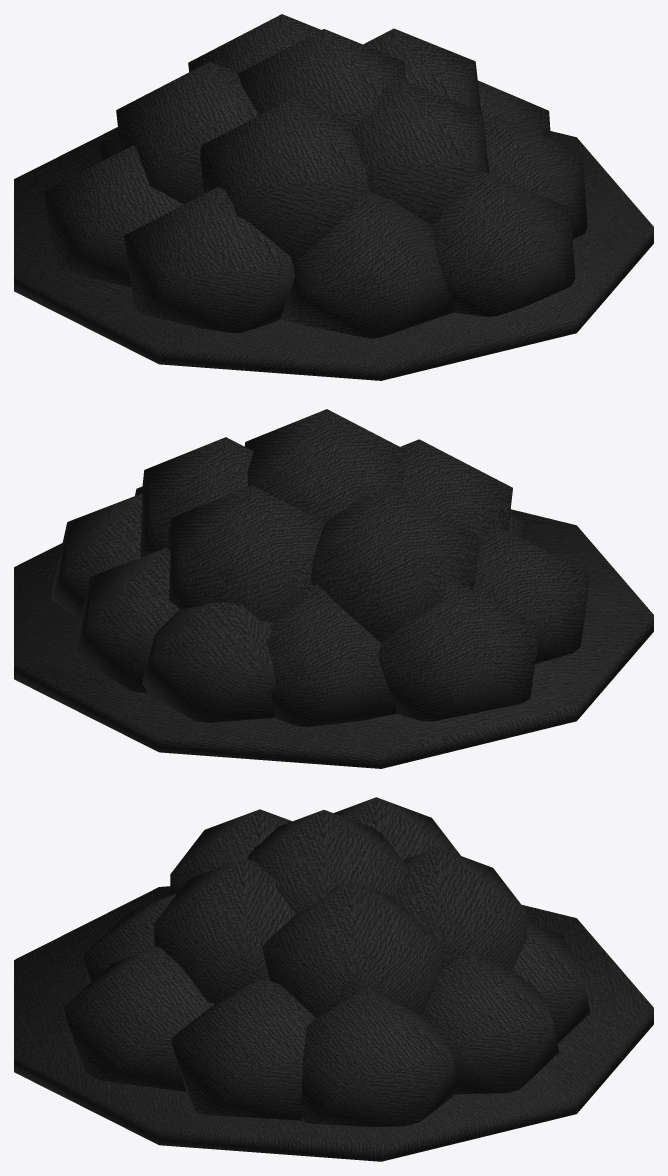
File: hat_a_high.glb
3 views of the same model, one above another, from view 1: azimuth 30°, elevation 25°; view 2: azimuth 150°, elevation 25°; view 3: azimuth 270°, elevation 25° (orthographic).
Visible parts, largest first — view 1: blackTowel.jpg__; view 2: blackTowel.jpg__; view 3: blackTowel.jpg__.
Boxes of the visible parts, x1,y1,x2,y2 form: blackTowel.jpg__: (14, 14, 653, 380); blackTowel.jpg__: (14, 409, 653, 768); blackTowel.jpg__: (14, 797, 653, 1161).
Size of the model in its own units: 2.27 by 0.8528 by 2.23.
1 material, 1 textured.
